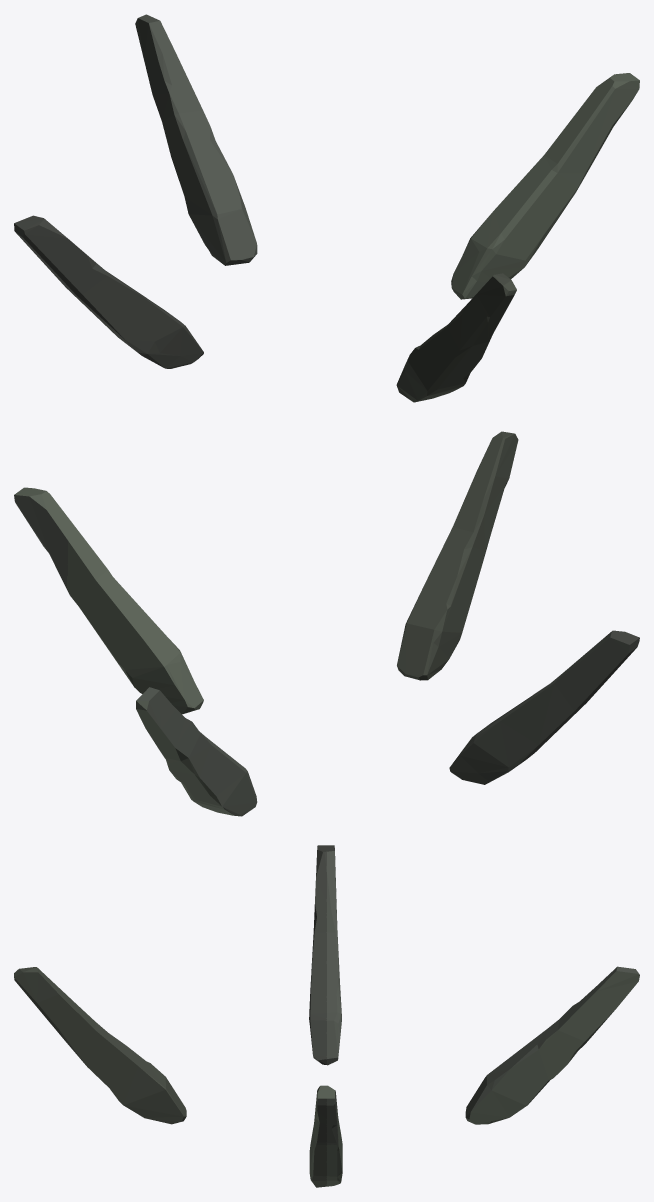
The model's file is Portal_03.FBX.
The picture shows the model from 3 angles, top to bottom: view 1: azimuth 30°, elevation 25°; view 2: azimuth 150°, elevation 25°; view 3: azimuth 270°, elevation 25°; orthographic projection. The views are drawn at different scales.
Visible parts, largest first — view 1: Portal_03; view 2: Portal_03; view 3: Portal_03.
Boxes of the visible parts, box(x1,y1,x2,y2) form: Portal_03: box(14, 14, 639, 402); Portal_03: box(14, 431, 639, 816); Portal_03: box(14, 845, 639, 1187).
Size of the model in its own units: 6.94 by 1.95 by 7.24.
